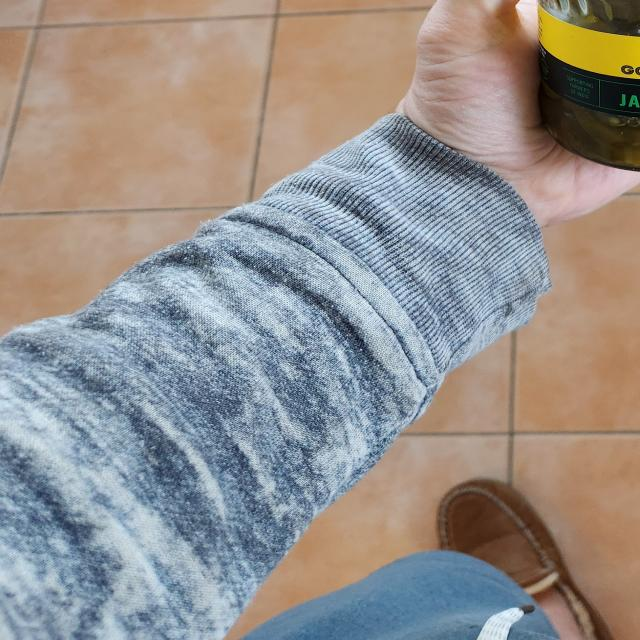jalapeno: (539, 0, 640, 171)
